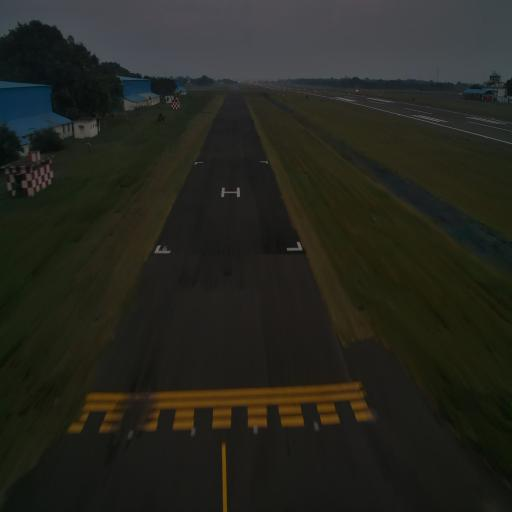off: (189, 424, 197, 439), (312, 420, 320, 434), (128, 426, 135, 440), (254, 423, 259, 437)
